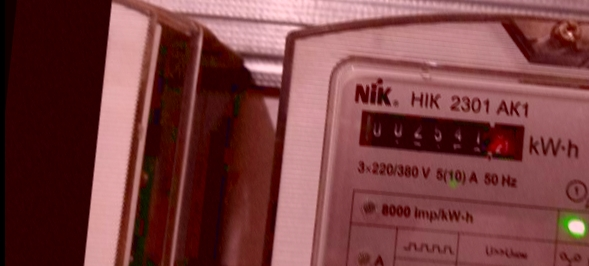0: (371, 113, 386, 136), (392, 114, 406, 136)
1: (473, 120, 486, 144)
2: (412, 115, 428, 138)
4: (453, 118, 466, 140)
5: (432, 117, 447, 141)
6: (494, 138, 506, 152)
screen: (347, 95, 540, 169)
